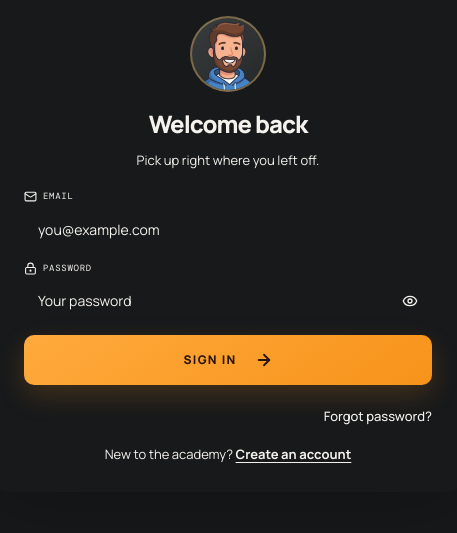
it: login › asks for email and password when the form is empty
What coordinates should you click on to do the following:
click the button "Sign in"
I would click on:
 (228, 360)
Its box is left=24, top=335, right=432, bottom=385.
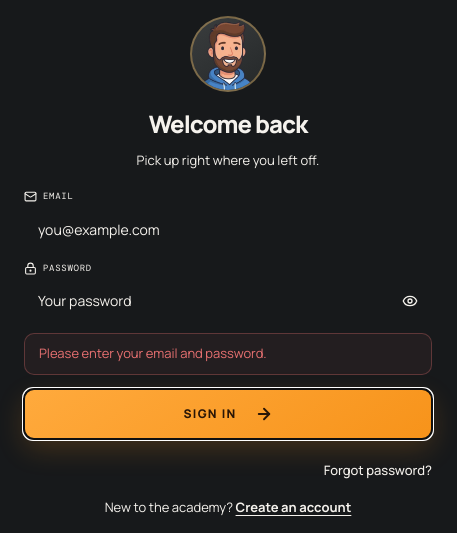
Check: the text "Please enter your email and password." is shown, box left=24, top=333, right=432, bottom=375
